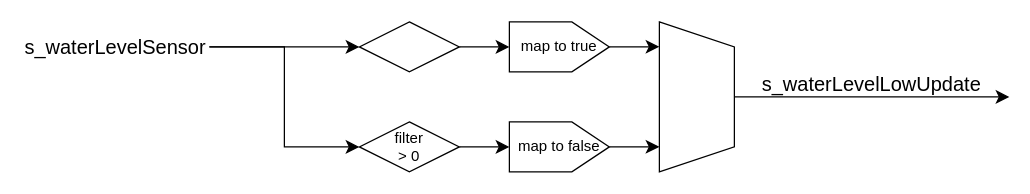
Some shapes in this 1030 by 194 pixel diagram are drawn without their labels. Here are the shapes that lost their labels. From the top down, the centre of each, then its label:
At point 408,46: "filter === 0".
At point 696,96: "orElse".
